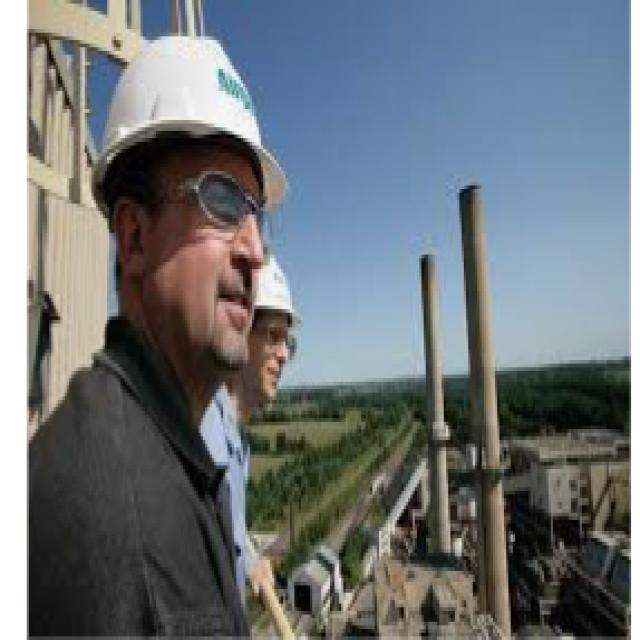glasses: (163, 166, 267, 226), (257, 315, 299, 349)
